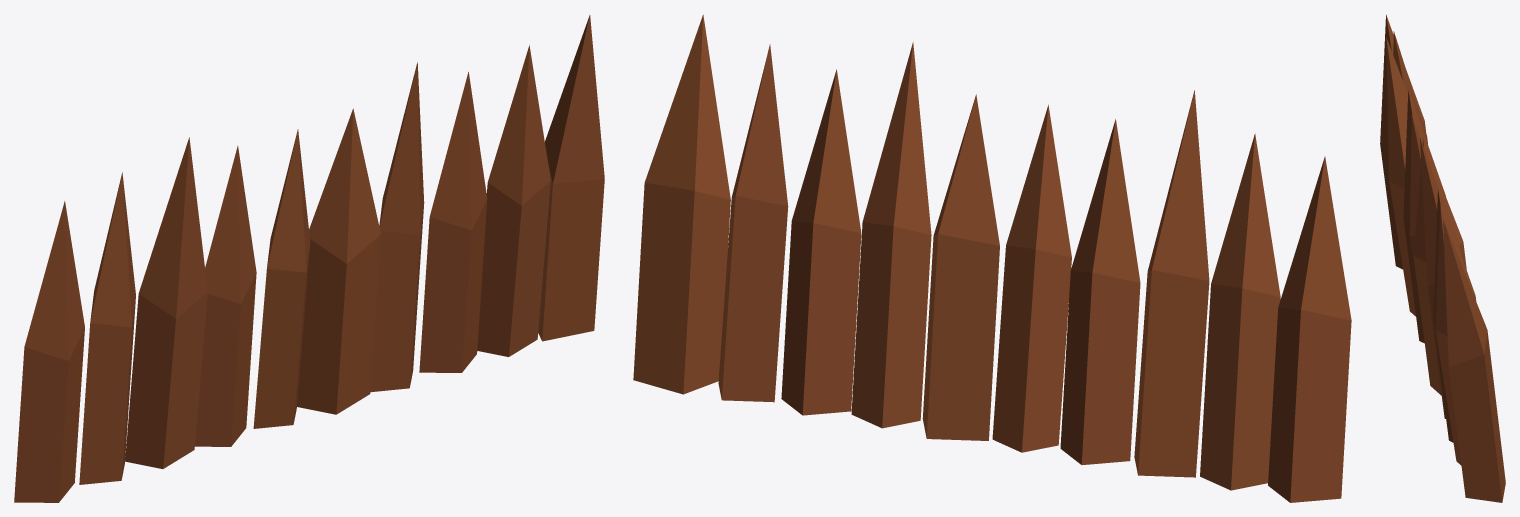
The model's file is weilan2.FBX.
The picture shows the model from 3 angles, left to right: view 1: azimuth 30°, elevation 25°; view 2: azimuth 150°, elevation 25°; view 3: azimuth 270°, elevation 25°; orthographic projection. The views are drawn at different scales.
Parts seen in each view (by area): view 1: c169; view 2: c169; view 3: c169.
Boxes of the visible parts, x1,y1,x2,y2 form: c169: (14,15,604,502); c169: (633,14,1351,502); c169: (1380,14,1505,502).
Bounding box in the file's own units: 2.4 × 1.25 × 0.5092.
